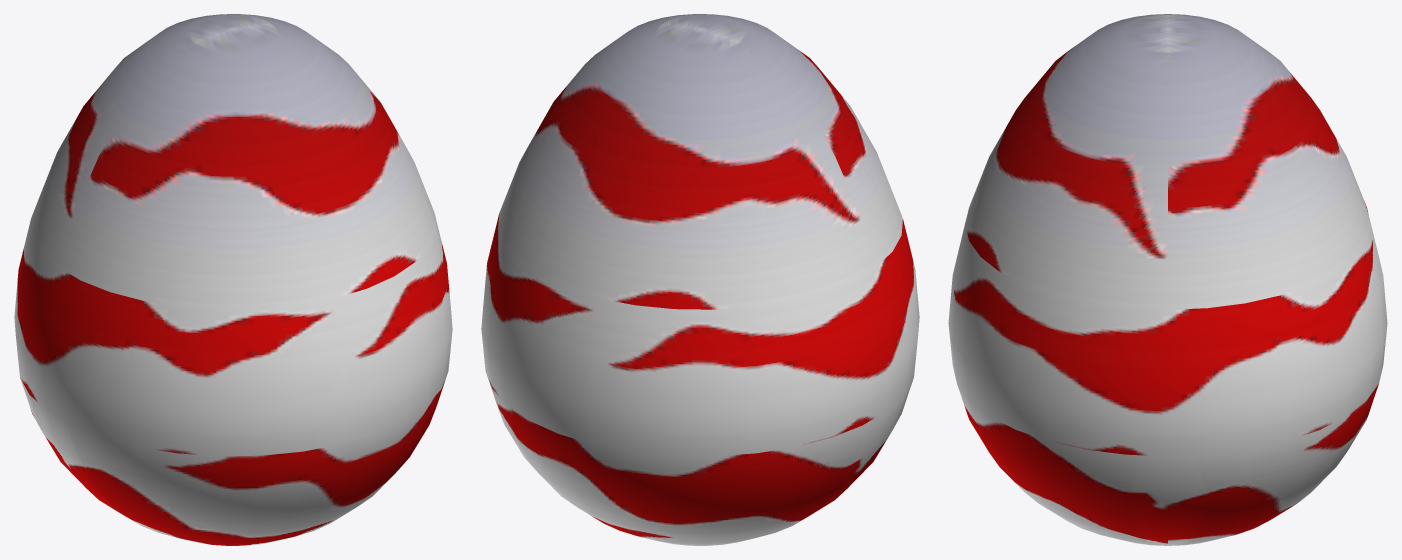
File: Egg.fbx
The picture shows the model from 3 angles, left to right: view 1: azimuth 30°, elevation 25°; view 2: azimuth 150°, elevation 25°; view 3: azimuth 270°, elevation 25°; orthographic projection.
Visible parts, largest first — view 1: Egg; view 2: Egg; view 3: Egg.
Boxes of the visible parts, <box> form: Egg: <box>14,14,452,545</box>; Egg: <box>481,14,919,545</box>; Egg: <box>948,14,1387,545</box>.
Size of the model in its own units: 0.7112 by 0.8871 by 0.7112.
